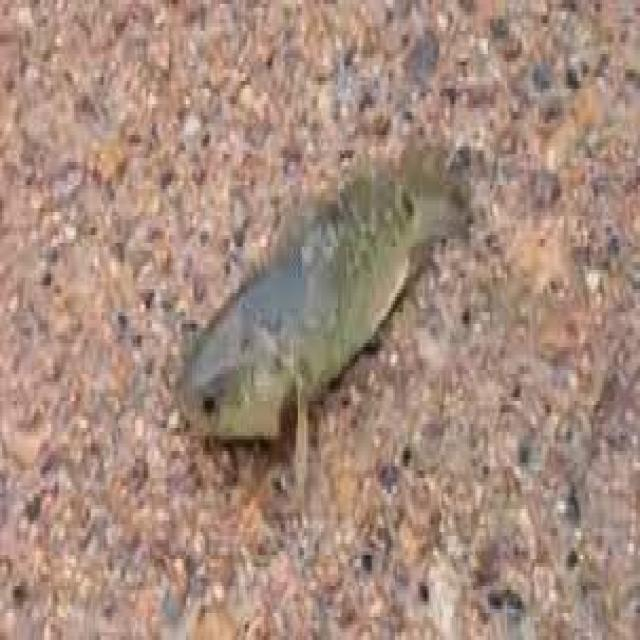Climbing-Perch: (156, 105, 540, 488)
